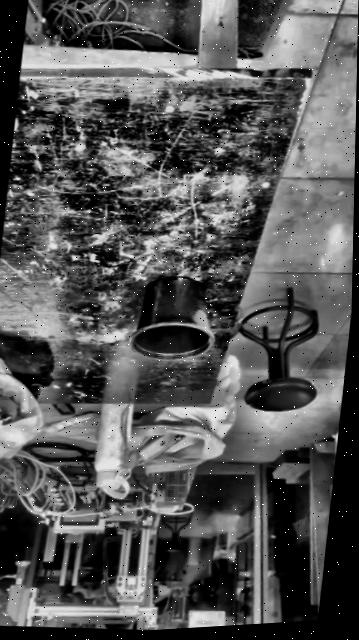pot: (127, 272, 217, 365)
